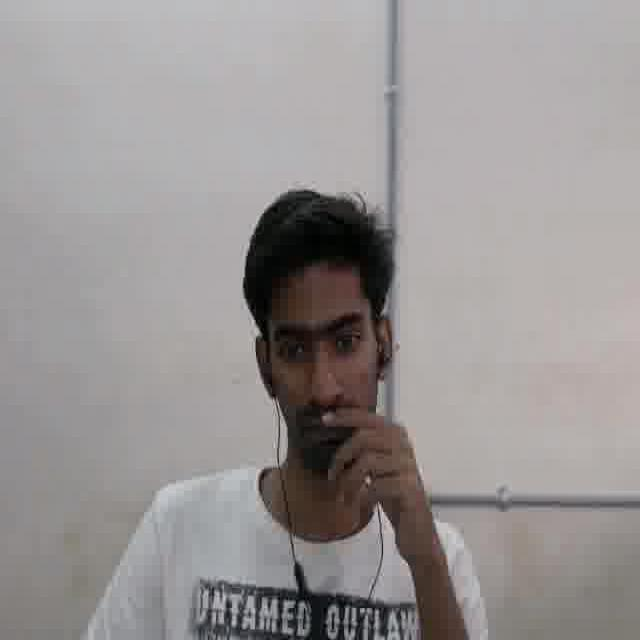Confusion: (263, 272, 381, 467)
